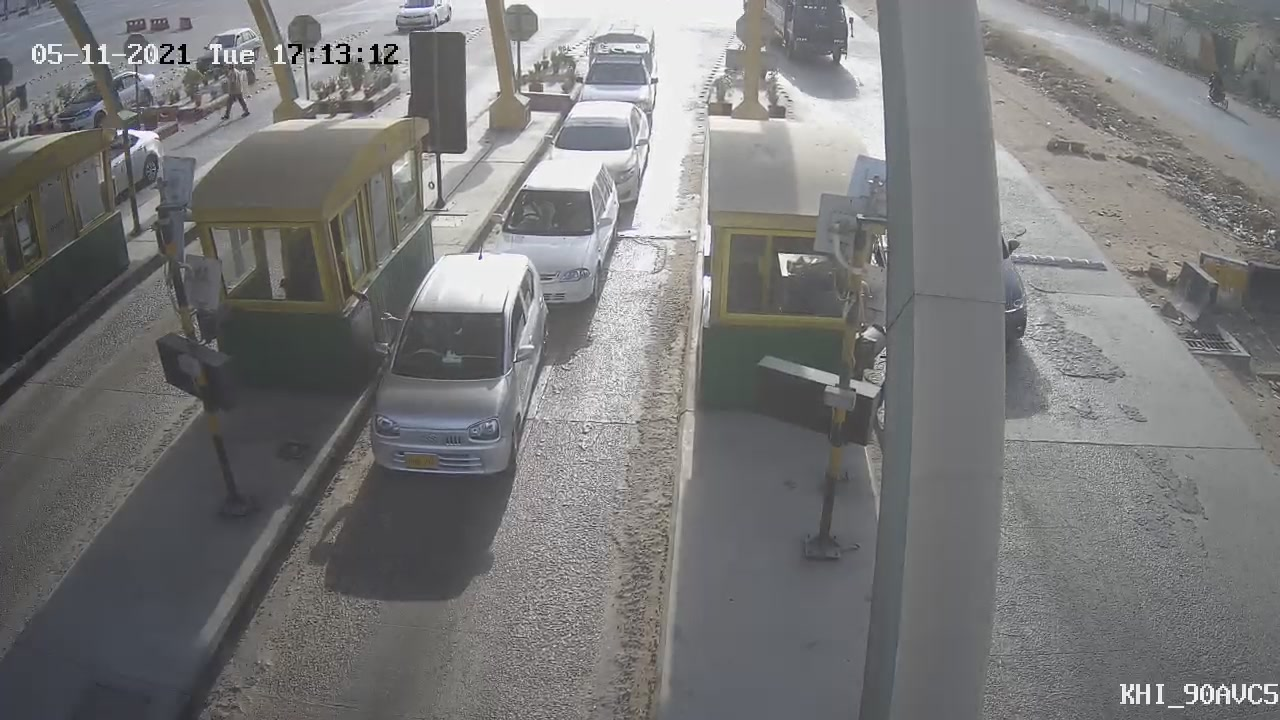F1: (343, 240, 569, 490), (477, 147, 635, 316)
